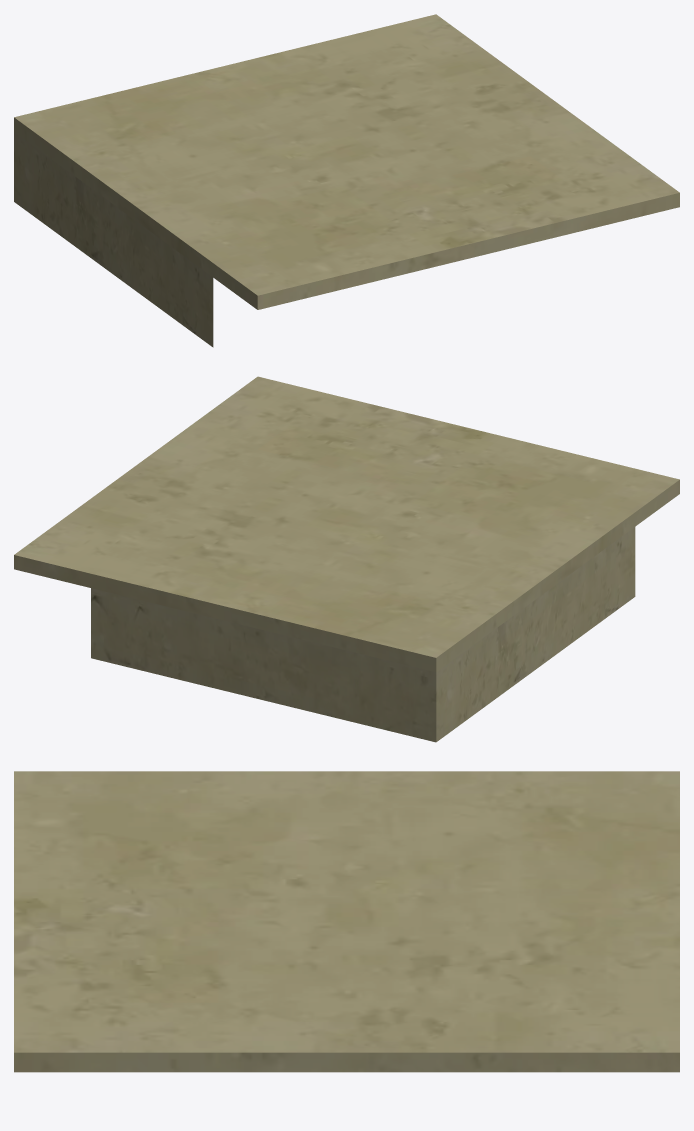
Rendered from Brick_CornerColumn_CapShort.glb.
3 renders of one model, top to bottom at view 1: azimuth 30°, elevation 25°; view 2: azimuth 150°, elevation 25°; view 3: azimuth 270°, elevation 25°, orthographic. The views are drawn at different scales.
Visible parts, largest first — view 1: Brick_CornerColumn_CapShort; view 2: Brick_CornerColumn_CapShort; view 3: Brick_CornerColumn_CapShort.
Boxes of the visible parts, x1,y1,x2,y2 form: Brick_CornerColumn_CapShort: (14,14,679,347); Brick_CornerColumn_CapShort: (14,376,679,742); Brick_CornerColumn_CapShort: (14,771,679,1072).
Bounding box in the file's own units: 1.26 × 0.2411 × 1.26.
1 material, 1 textured.
